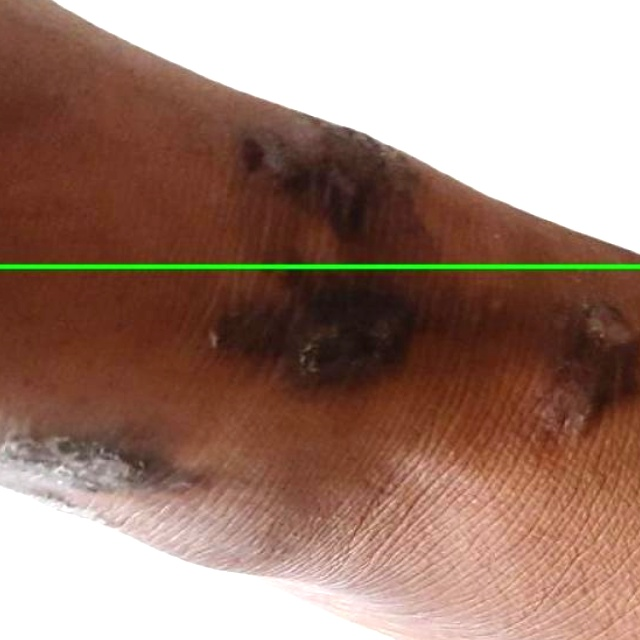Contact Dermatitis: (0, 0, 639, 268)
